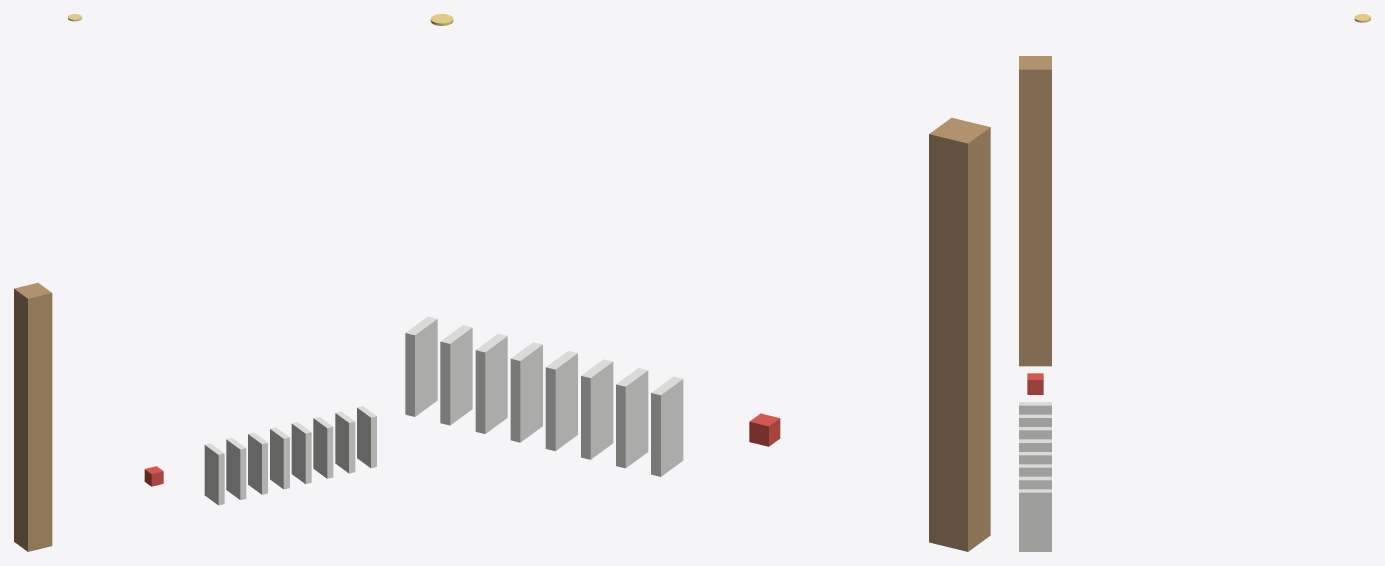
File: physics.glb
3 renders of one model, left to right at view 1: azimuth 30°, elevation 25°; view 2: azimuth 150°, elevation 25°; view 3: azimuth 270°, elevation 25°, orthographic. The views are drawn at different scales.
Parts seen in each view (by area): view 1: Crate.9, Domino.0, Domino.1, Domino.5, Domino.6, Domino.4, Domino.3, Domino.2, Domino.7, Crate.1, Crate.2, Crate.5 (+6 smaller); view 2: Crate.9, Domino.6, Domino.0, Domino.1, Domino.3, Domino.4, Domino.5, Domino.7, Domino.2, Crate.4, Crate.5, Crate.3 (+7 smaller); view 3: Domino.7, Crate.9, Crate.0, Crate.3, Crate.6, Crate.1, Crate.2, Crate.4, Crate.5, Crate.7, Crate.8, Domino.6.
Part boxes in pixels (left/top/right/bottom): Crate.9: left=14, top=283, right=52, bottom=323; Domino.0: left=204, top=443, right=224, bottom=505; Domino.1: left=226, top=438, right=246, bottom=499; Domino.5: left=313, top=416, right=333, bottom=478; Domino.6: left=335, top=411, right=355, bottom=473; Domino.4: left=291, top=422, right=311, bottom=484; Domino.3: left=270, top=427, right=289, bottom=489; Domino.2: left=248, top=432, right=267, bottom=494; Domino.7: left=357, top=406, right=376, bottom=468; Crate.1: left=14, top=491, right=52, bottom=526; Crate.2: left=14, top=466, right=52, bottom=501; Crate.5: left=14, top=390, right=52, bottom=425; Crate.9: left=929, top=117, right=990, bottom=184; Domino.6: left=440, top=325, right=472, bottom=425; Domino.0: left=651, top=376, right=683, bottom=476; Domino.1: left=616, top=368, right=648, bottom=468; Domino.3: left=545, top=351, right=577, bottom=451; Domino.4: left=510, top=342, right=542, bottom=442; Domino.5: left=475, top=333, right=507, bottom=433; Domino.7: left=405, top=316, right=437, bottom=416; Domino.2: left=581, top=359, right=613, bottom=459; Crate.4: left=929, top=331, right=990, bottom=388; Crate.5: left=929, top=291, right=990, bottom=347; Crate.3: left=929, top=372, right=990, bottom=429; Domino.7: left=1019, top=489, right=1051, bottom=551; Crate.9: left=1019, top=56, right=1051, bottom=99; Crate.0: left=1019, top=336, right=1051, bottom=366; Crate.3: left=1019, top=247, right=1051, bottom=277; Crate.6: left=1019, top=158, right=1051, bottom=188; Crate.1: left=1019, top=307, right=1051, bottom=336; Crate.2: left=1019, top=277, right=1051, bottom=306; Crate.4: left=1019, top=218, right=1051, bottom=247; Crate.5: left=1019, top=188, right=1051, bottom=217; Crate.7: left=1019, top=129, right=1051, bottom=158; Crate.8: left=1019, top=99, right=1051, bottom=128; Domino.6: left=1019, top=476, right=1051, bottom=489.
Size of what is drawn, in the model's own units: 2.89 by 3.01 by 2.15.
